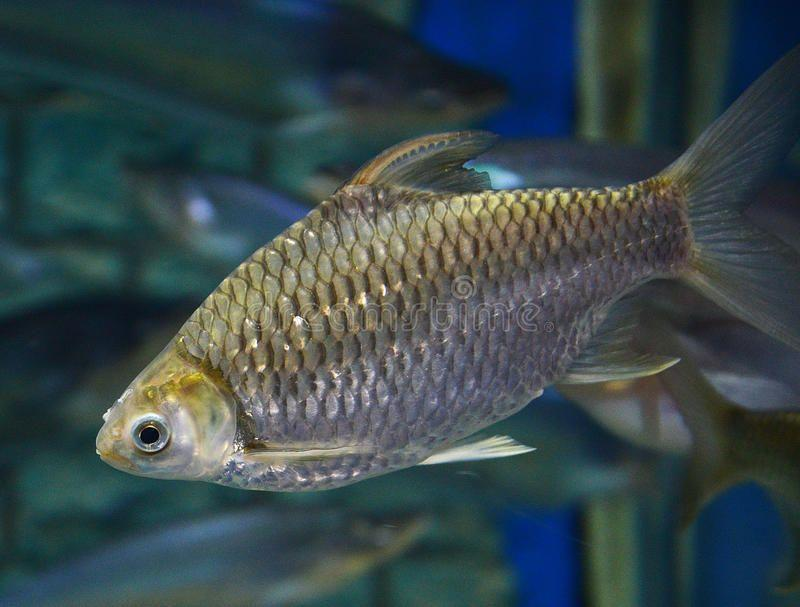Silver Barb: (90, 45, 800, 495)
